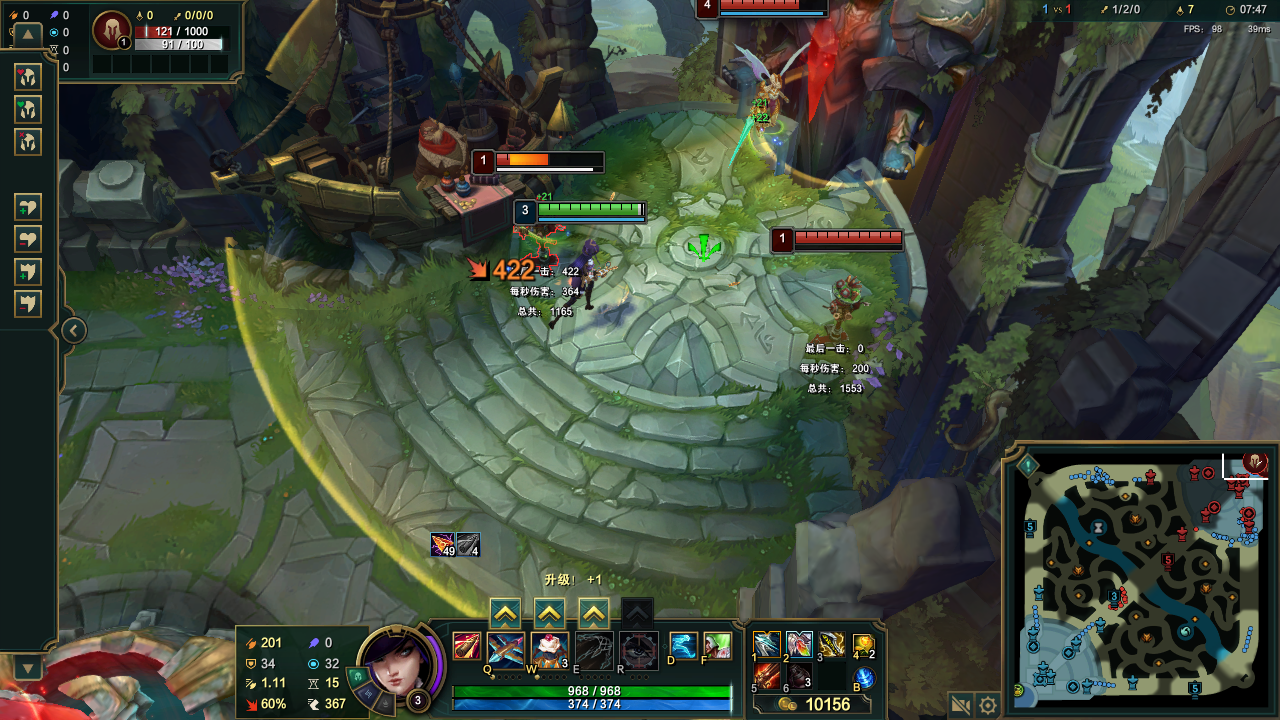DFYX: (794, 227, 906, 244), (494, 152, 606, 167)
